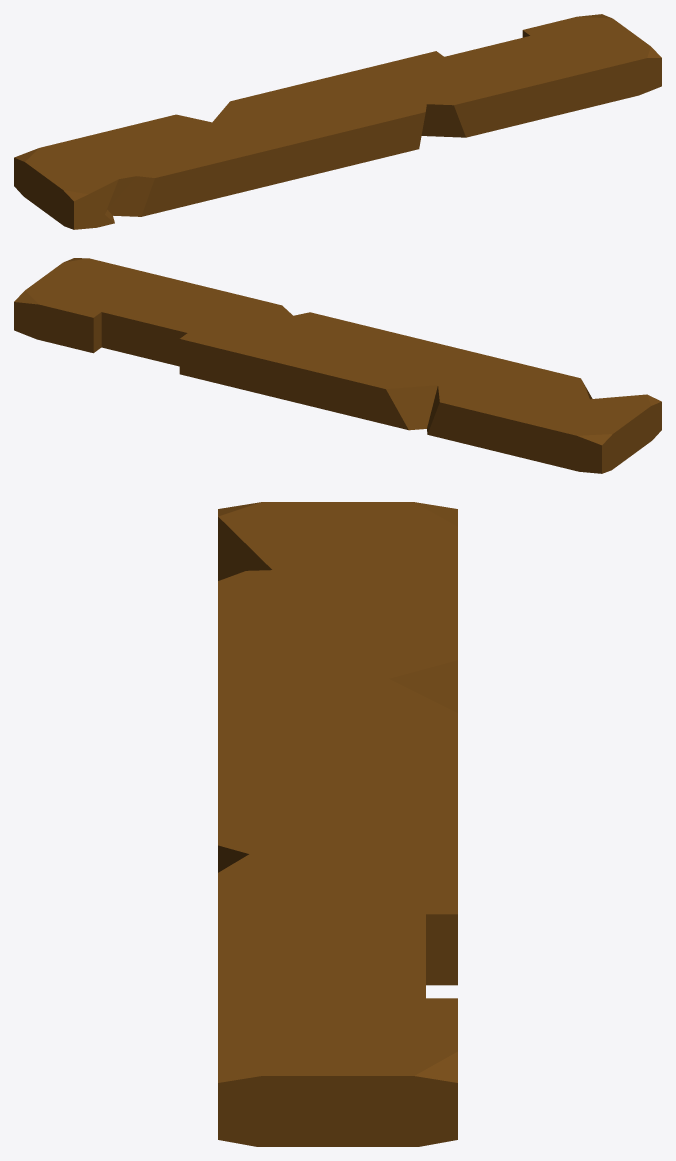
Rendered from Plank3.fbx.
3 views of the same model, one above another, from view 1: azimuth 30°, elevation 25°; view 2: azimuth 150°, elevation 25°; view 3: azimuth 270°, elevation 25° (orthographic). The views are drawn at different scales.
Parts seen in each view (by area): view 1: Cube; view 2: Cube; view 3: Cube.
Part boxes in pixels (<box>): Cube: <box>14,14,661,229</box>; Cube: <box>14,258,661,473</box>; Cube: <box>218,502,457,1146</box>.
Size of the model in its own units: 1365 by 78.68 by 241.
